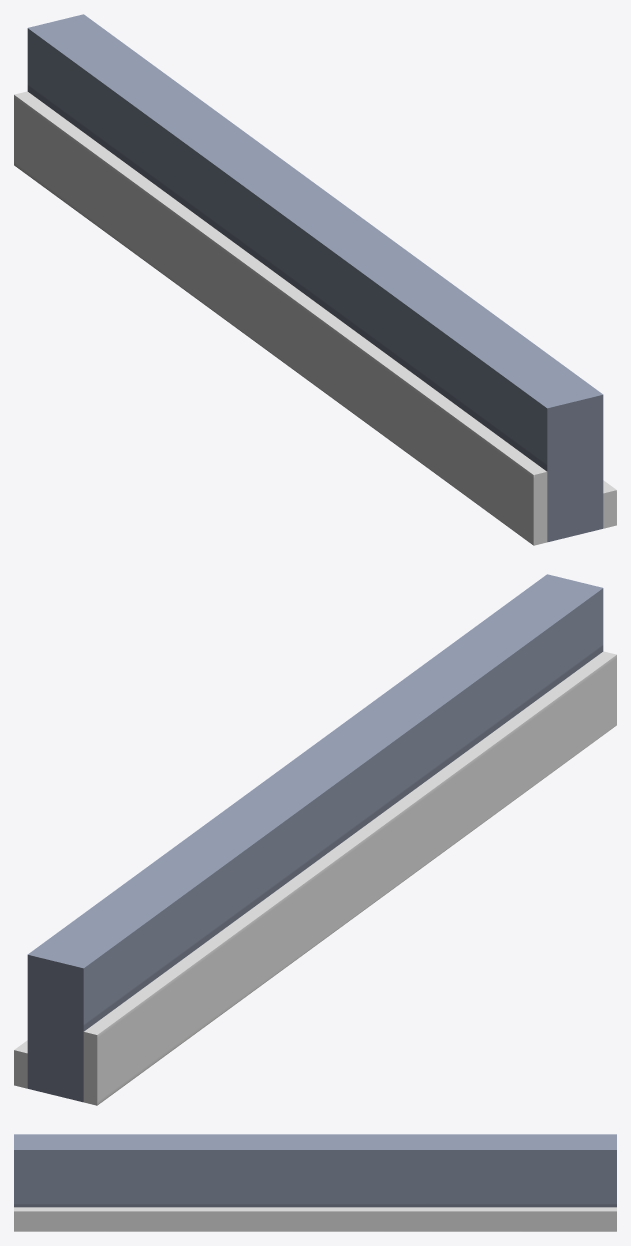
File: office_pack_demoRoom_wall_large_visible.fbx
3 renders of one model, top to bottom at view 1: azimuth 30°, elevation 25°; view 2: azimuth 150°, elevation 25°; view 3: azimuth 270°, elevation 25°, orthographic. The views are drawn at different scales.
Parts seen in each view (by area): view 1: office_pack_demoRoom_wall_large_visible; view 2: office_pack_demoRoom_wall_large_visible; view 3: office_pack_demoRoom_wall_large_visible.
Boxes of the visible parts, box(x1,y1,x2,y2) form: office_pack_demoRoom_wall_large_visible: box(14, 14, 616, 545); office_pack_demoRoom_wall_large_visible: box(14, 574, 616, 1105); office_pack_demoRoom_wall_large_visible: box(14, 1134, 616, 1231).
Bounding box in the file's own units: 18.5 × 28.46 × 200.
